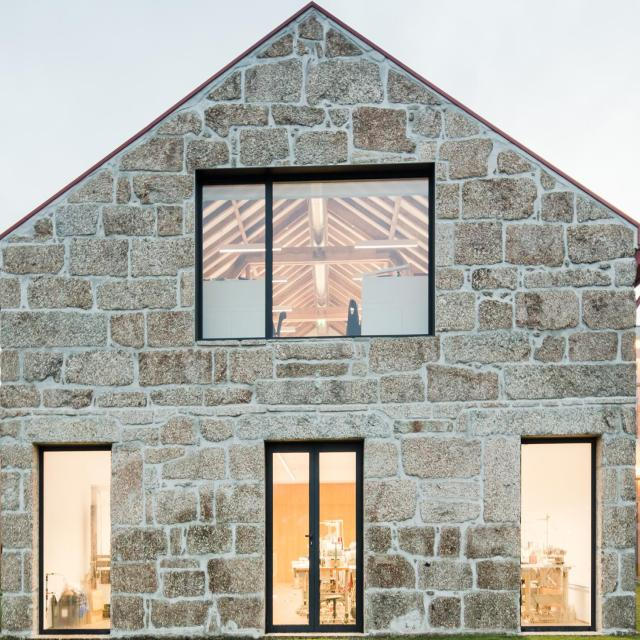door: (264, 439, 364, 638)
window: (197, 173, 435, 334), (521, 436, 595, 632), (41, 451, 114, 633)
